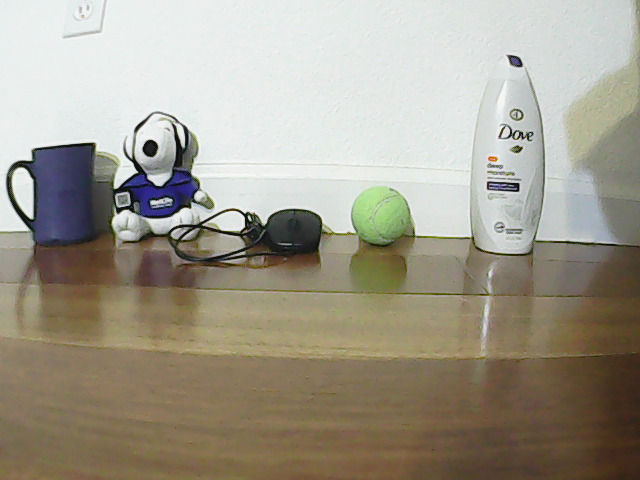ball: (346, 181, 417, 245)
mouse: (264, 205, 325, 254)
mug: (5, 127, 103, 251)
snoopy: (125, 97, 204, 240)
soap: (477, 48, 553, 262)
